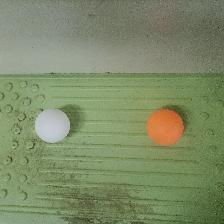WhiteBall: (34, 109, 70, 142)
YellowBall: (145, 109, 184, 145)
